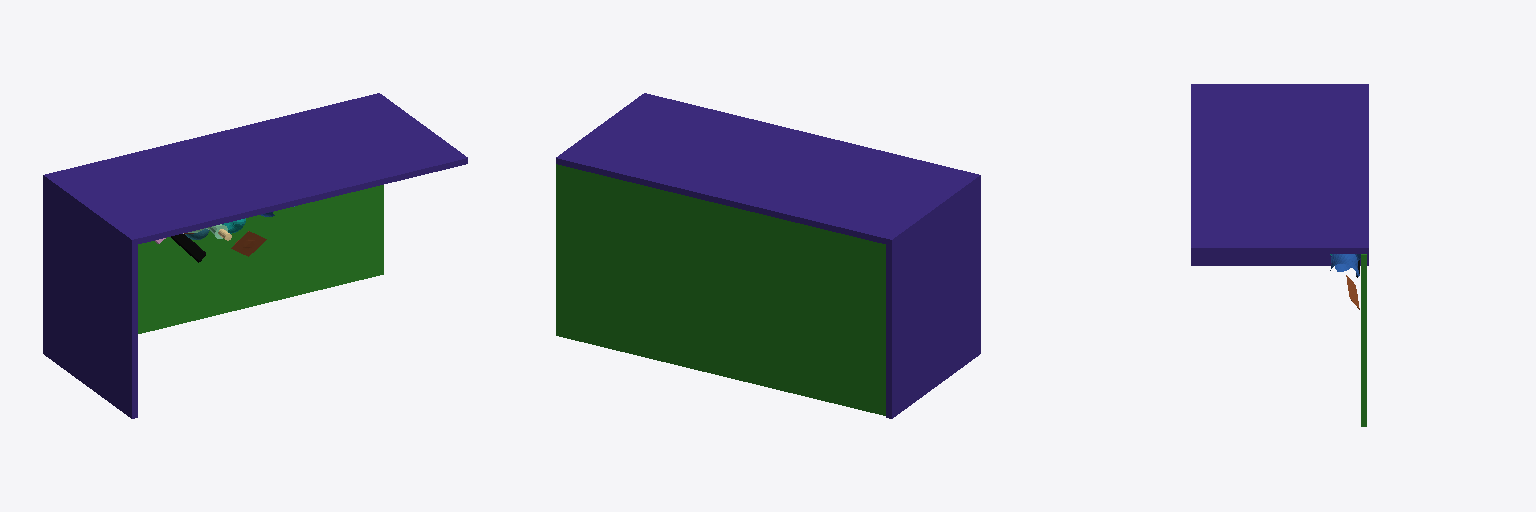
Rendered from complex.obj.
The picture shows the model from 3 angles: view 1: azimuth 30°, elevation 25°; view 2: azimuth 150°, elevation 25°; view 3: azimuth 270°, elevation 25°; orthographic projection.
Parts seen in each view (by area): view 1: L_Ext01, wooden_board; view 2: wooden_board, L_Ext01; view 3: L_Ext01, wooden_board.
Part boxes in pixels (left/top/right/bottom): L_Ext01: left=43, top=93, right=467, bottom=418; wooden_board: left=138, top=185, right=383, bottom=333; wooden_board: left=556, top=164, right=885, bottom=415; L_Ext01: left=556, top=93, right=980, bottom=418; L_Ext01: left=1191, top=84, right=1368, bottom=265; wooden_board: left=1361, top=254, right=1366, bottom=426.
Bounding box in the file's own units: 550 × 280 × 252.